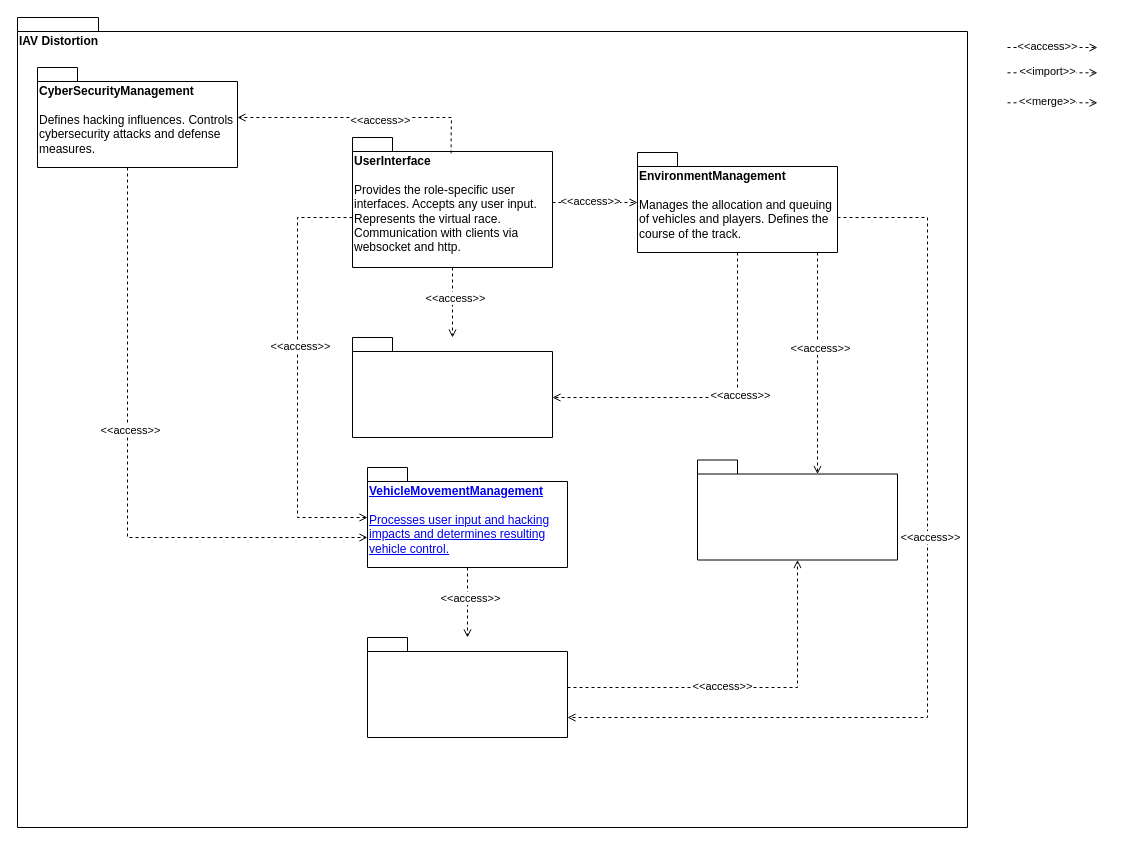
Some shapes in this 1123 by 845 pixel diagram are drawn without their labels. The shapes that lost their labels are listed below. From the top down, each one's box as (x1, y1, x2, y2) in pixels, then its label:
(352, 336, 552, 438): VehicleManagement Provides game-ready real and virtual vehicles
(696, 459, 898, 560): LocationService Calculates the vehicle movement on the virtual route.
(366, 636, 568, 738): DataModel Defines structure of vehicle objects.
